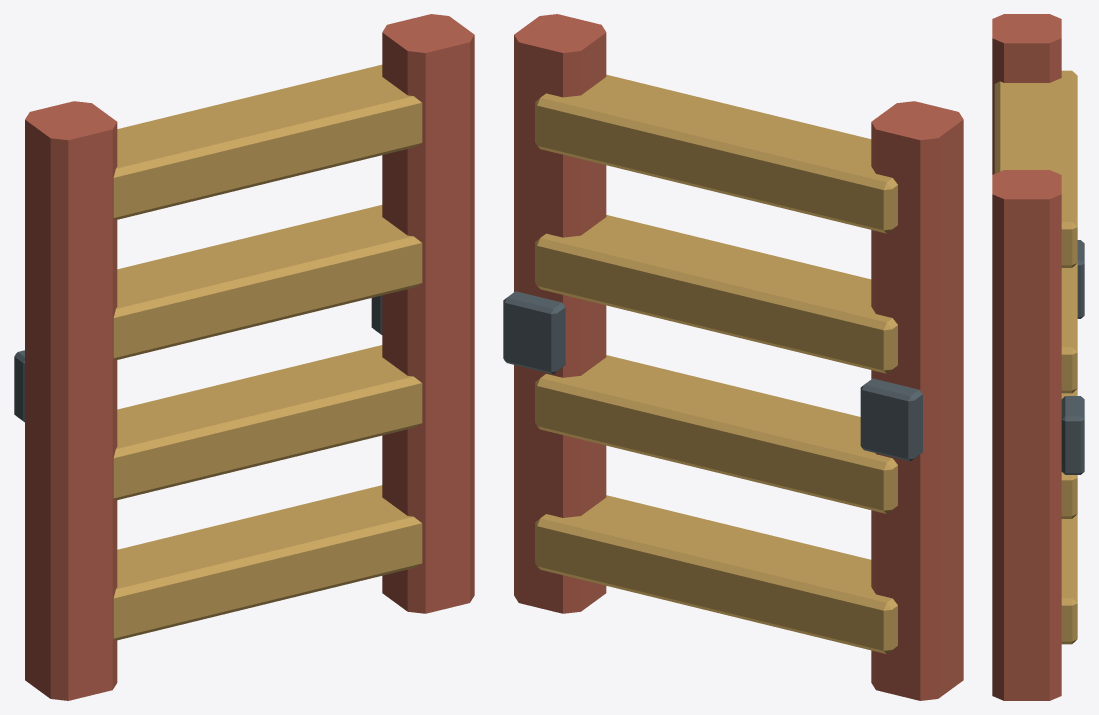
Rendered from ladder_section.glb.
3 renders of one model, left to right at view 1: azimuth 30°, elevation 25°; view 2: azimuth 150°, elevation 25°; view 3: azimuth 270°, elevation 25°, orthographic. The views are drawn at different scales.
Visible parts, largest first — view 1: Keep_Mesh; view 2: Keep_Mesh; view 3: Keep_Mesh.
Boxes of the visible parts, x1,y1,x2,y2 form: Keep_Mesh: (14,14,474,700); Keep_Mesh: (503,14,963,700); Keep_Mesh: (992,14,1084,700).
Size of the model in its own units: 0.95 by 1.2 by 0.2.
